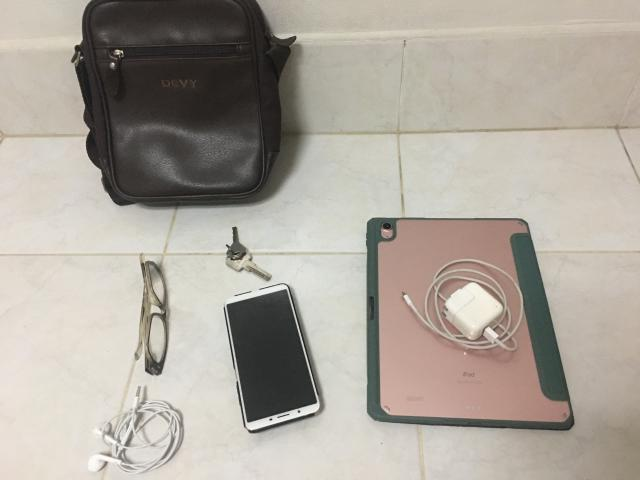Glasses: (135, 254, 169, 375)
Keys: (226, 226, 271, 280)
Mobile phone: (224, 284, 320, 432)
wire: (401, 259, 524, 351), (88, 386, 184, 474)
